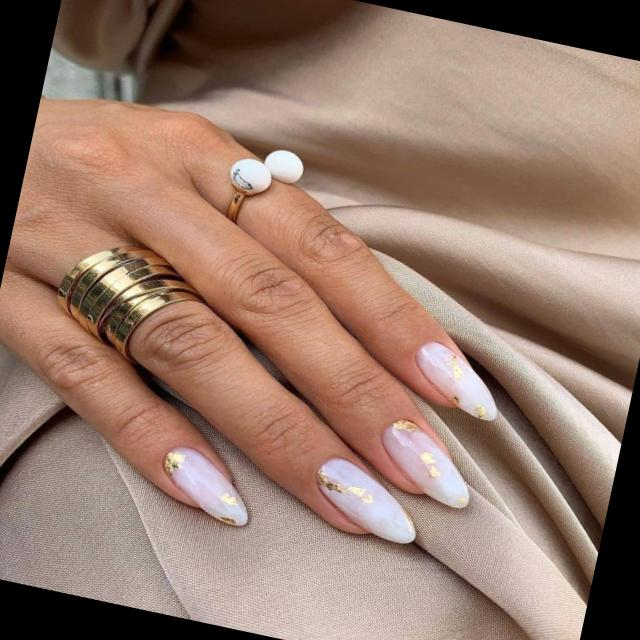Nail: (316, 456, 415, 543), (381, 419, 469, 508), (162, 446, 247, 525), (417, 343, 495, 420)
